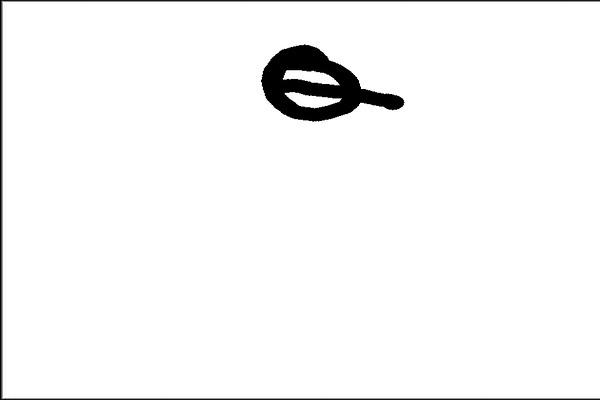Q: (254, 40, 412, 139)
